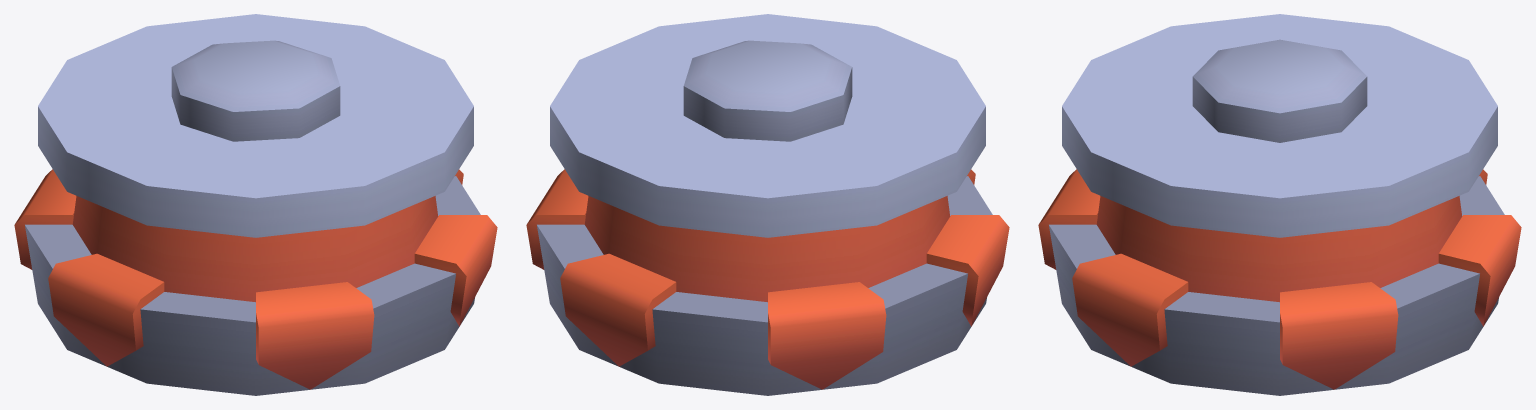
The model's file is tower-round-middle-a.glb.
3 views of the same model, side by side, from view 1: azimuth 30°, elevation 25°; view 2: azimuth 150°, elevation 25°; view 3: azimuth 270°, elevation 25° (orthographic).
Visible parts, largest first — view 1: tower-round-middle-a; view 2: tower-round-middle-a; view 3: tower-round-middle-a.
Part boxes in pixels (x1,y1,x2,y2): tower-round-middle-a: [14, 14, 497, 395]; tower-round-middle-a: [526, 14, 1009, 395]; tower-round-middle-a: [1038, 14, 1521, 395].
Bounding box in the file's own units: 1.11 × 0.6 × 1.11.
Materials: 1 (1 with a texture image).
